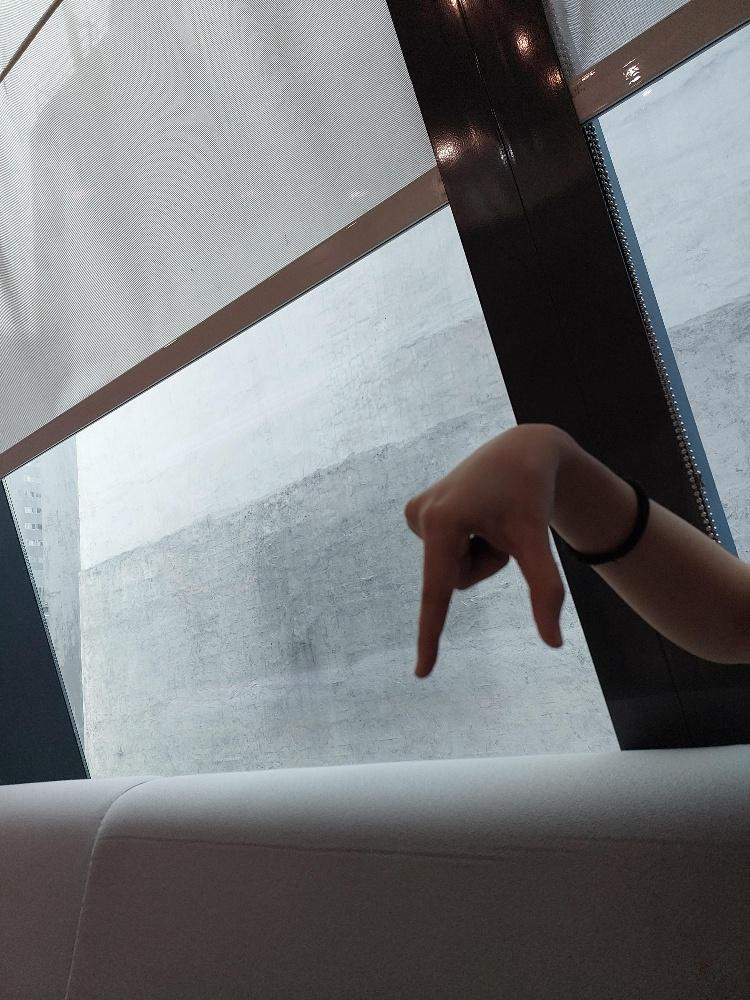q: (401, 419, 565, 671)
